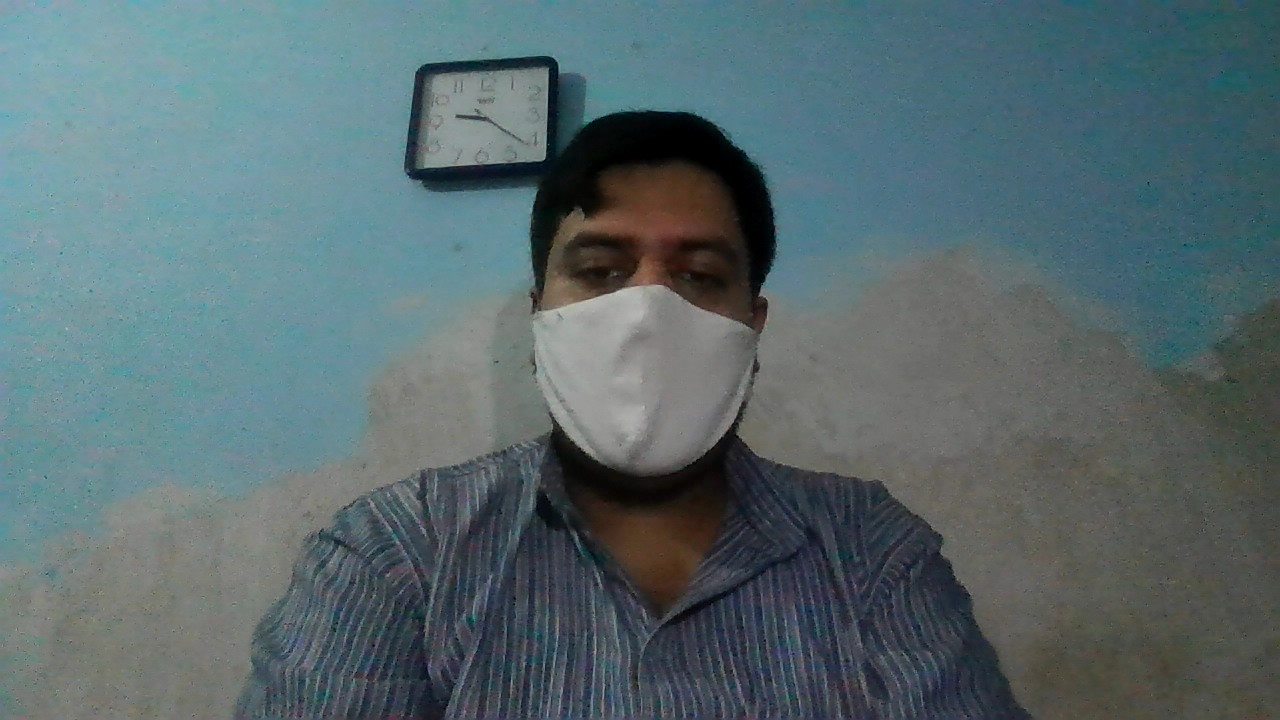Mask: (522, 286, 769, 478)
